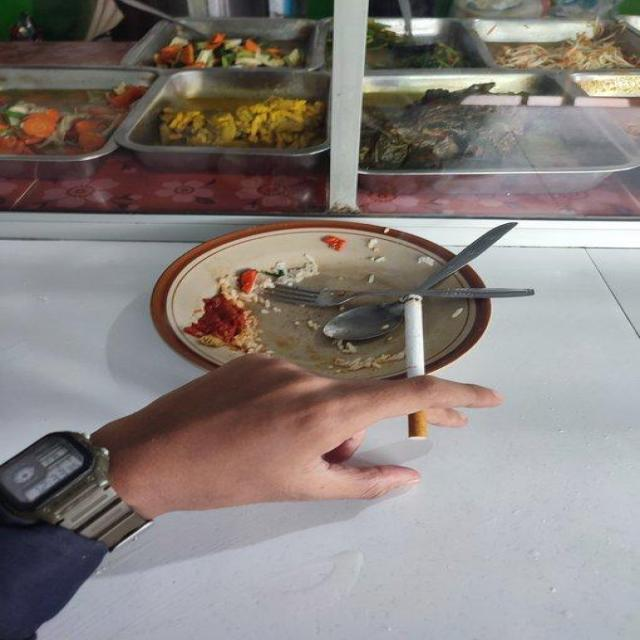rokok: (396, 288, 434, 444)
